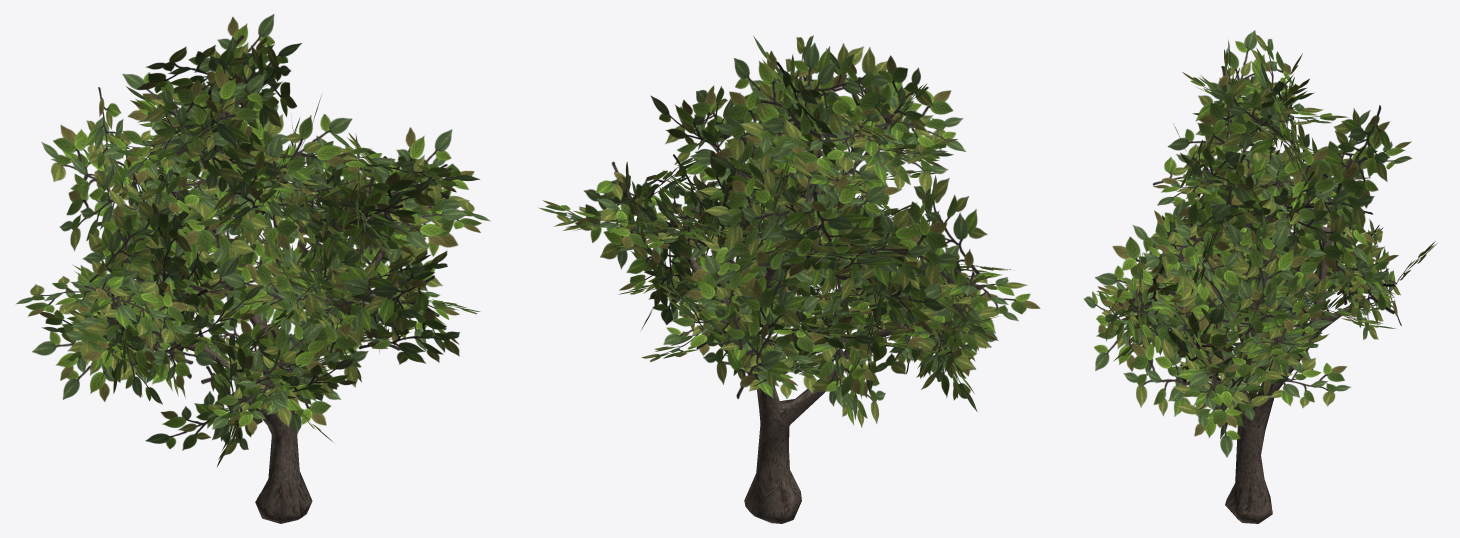
File: realistic_tree.lod3.glb
3 renders of one model, left to right at view 1: azimuth 30°, elevation 25°; view 2: azimuth 150°, elevation 25°; view 3: azimuth 270°, elevation 25°, orthographic. The views are drawn at different scales.
Parts seen in each view (by area): view 1: crown merged_normal leaves_0, br_low_trunk_0; view 2: crown merged_normal leaves_0, br_low_trunk_0; view 3: crown merged_normal leaves_0, br_low_trunk_0.
Boxes of the visible parts, x1,y1,x2,y2 form: crown merged_normal leaves_0: [15, 14, 490, 467]; br_low_trunk_0: [126, 112, 401, 523]; crown merged_normal leaves_0: [538, 35, 1040, 427]; br_low_trunk_0: [670, 122, 918, 523]; crown merged_normal leaves_0: [1083, 30, 1436, 457]; br_low_trunk_0: [1136, 114, 1370, 523].
Size of the model in its own units: 17.58 by 17.12 by 12.34.
2 materials, 2 textured.
